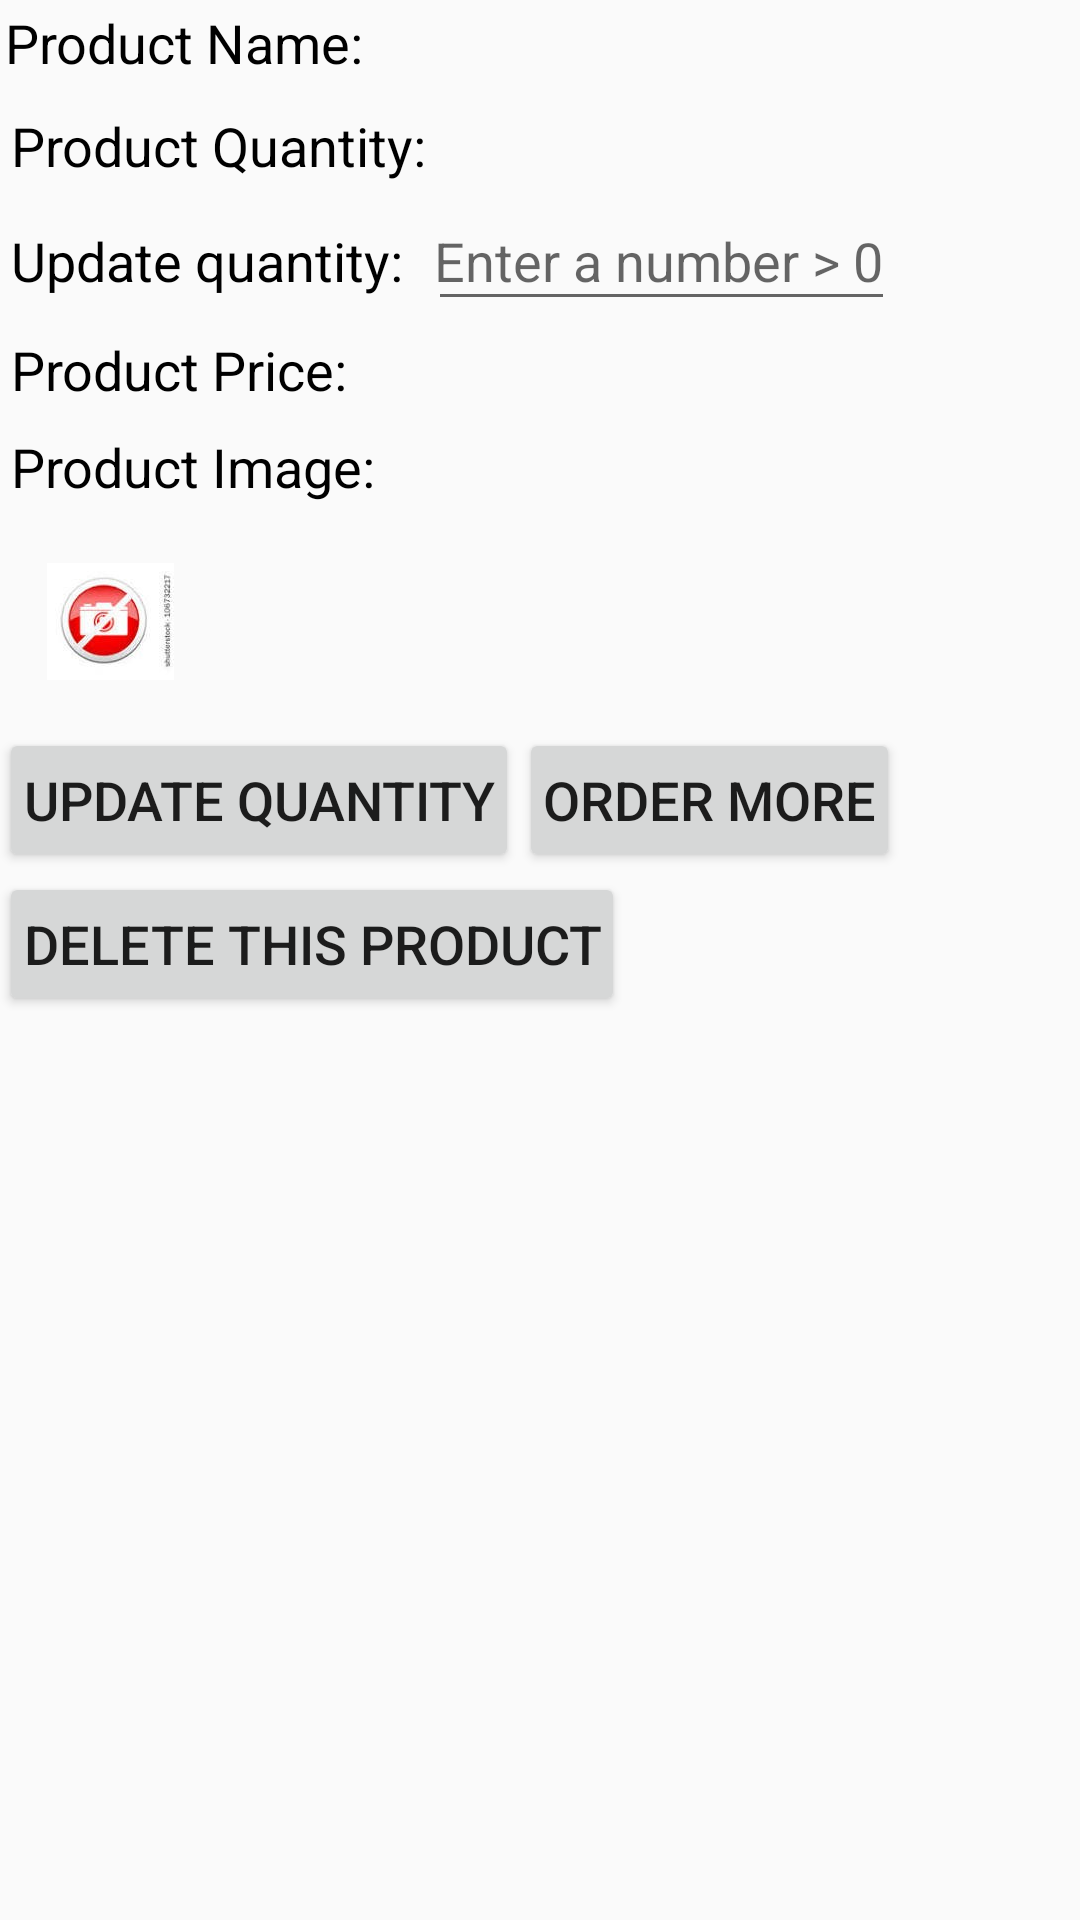

Screen size 1080px×1920px. Icon name, then its center in pixels as (x,y):
noimage: (116,621)
